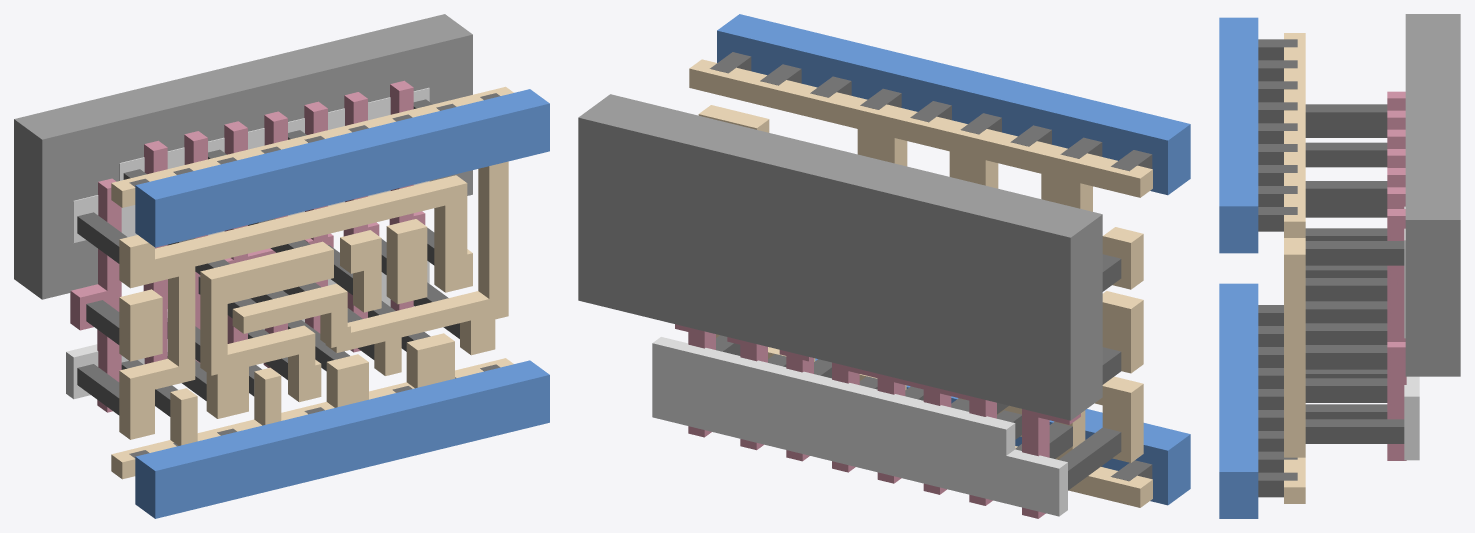
Rendered from sky130_fd_sc_hd__or3b_4.gds.gltf.
3 renders of one model, left to right at view 1: azimuth 30°, elevation 25°; view 2: azimuth 150°, elevation 25°; view 3: azimuth 270°, elevation 25°, orthographic. The views are drawn at different scales.
Parts seen in each view (by area): view 1: sky130_fd_sc_hd__or3b_4_li1, sky130_fd_sc_hd__or3b_4_met1, sky130_fd_sc_hd__or3b_4_nwell, sky130_fd_sc_hd__or3b_4_poly, sky130_fd_sc_hd__or3b_4_licon, sky130_fd_sc_hd__or3b_4_diff, sky130_fd_sc_hd__or3b_4_mcon; view 2: sky130_fd_sc_hd__or3b_4_nwell, sky130_fd_sc_hd__or3b_4_diff, sky130_fd_sc_hd__or3b_4_li1, sky130_fd_sc_hd__or3b_4_met1, sky130_fd_sc_hd__or3b_4_poly, sky130_fd_sc_hd__or3b_4_licon, sky130_fd_sc_hd__or3b_4_mcon; view 3: sky130_fd_sc_hd__or3b_4_licon, sky130_fd_sc_hd__or3b_4_nwell, sky130_fd_sc_hd__or3b_4_met1, sky130_fd_sc_hd__or3b_4_mcon, sky130_fd_sc_hd__or3b_4_li1, sky130_fd_sc_hd__or3b_4_poly, sky130_fd_sc_hd__or3b_4_diff.
Boxes of the visible parts, x1,y1,x2,y2 form: sky130_fd_sc_hd__or3b_4_li1: (111, 86, 513, 479); sky130_fd_sc_hd__or3b_4_met1: (135, 89, 549, 518); sky130_fd_sc_hd__or3b_4_nwell: (14, 14, 472, 299); sky130_fd_sc_hd__or3b_4_poly: (70, 80, 425, 412); sky130_fd_sc_hd__or3b_4_licon: (77, 99, 459, 416); sky130_fd_sc_hd__or3b_4_diff: (66, 87, 429, 399); sky130_fd_sc_hd__or3b_4_mcon: (129, 93, 500, 457); sky130_fd_sc_hd__or3b_4_nwell: (578, 94, 1102, 420); sky130_fd_sc_hd__or3b_4_diff: (652, 337, 1067, 516); sky130_fd_sc_hd__or3b_4_li1: (689, 59, 1152, 507); sky130_fd_sc_hd__or3b_4_met1: (717, 14, 1190, 505); sky130_fd_sc_hd__or3b_4_poly: (675, 324, 1080, 518); sky130_fd_sc_hd__or3b_4_licon: (716, 254, 1121, 490); sky130_fd_sc_hd__or3b_4_mcon: (710, 52, 1152, 481); sky130_fd_sc_hd__or3b_4_licon: (1305, 104, 1404, 443); sky130_fd_sc_hd__or3b_4_nwell: (1405, 14, 1460, 376); sky130_fd_sc_hd__or3b_4_met1: (1219, 17, 1258, 518); sky130_fd_sc_hd__or3b_4_mcon: (1258, 39, 1297, 497); sky130_fd_sc_hd__or3b_4_li1: (1284, 33, 1305, 503); sky130_fd_sc_hd__or3b_4_poly: (1387, 91, 1406, 460); sky130_fd_sc_hd__or3b_4_diff: (1404, 206, 1419, 460).
Bounding box in the file's own units: 4.52 × 3.2 × 2.24.
